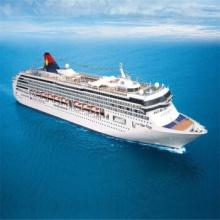youlun: (12, 54, 206, 149)
